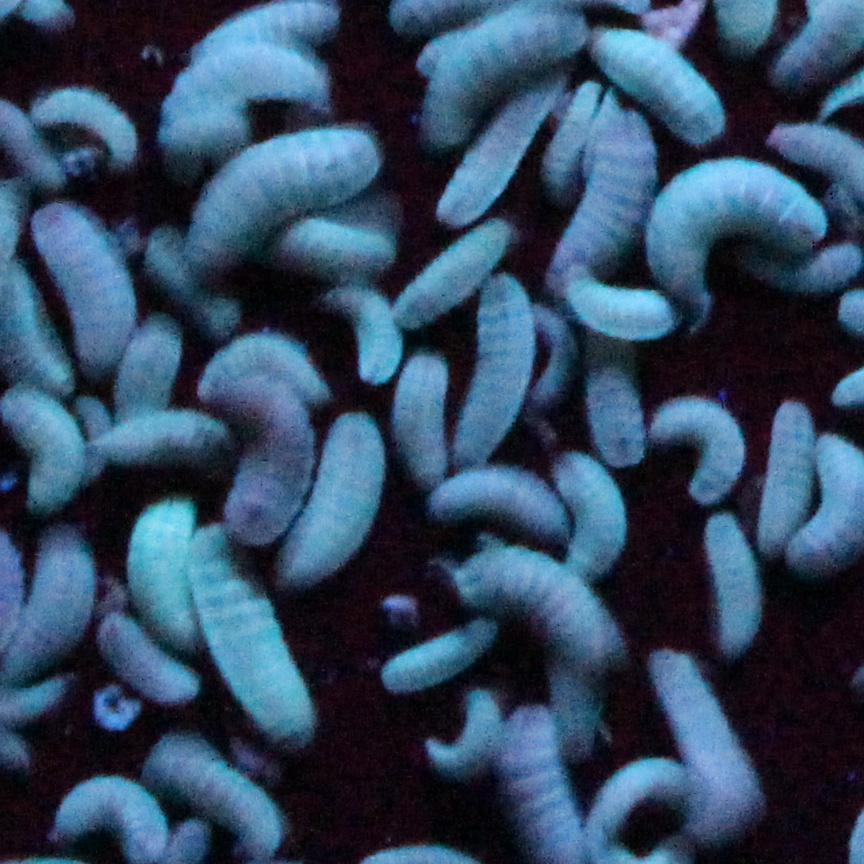larve: (182, 107, 392, 280), (179, 515, 325, 746), (633, 153, 826, 287), (446, 530, 633, 666), (22, 199, 144, 394), (418, 10, 585, 151), (638, 644, 759, 825), (277, 400, 385, 600), (138, 728, 291, 854), (579, 21, 740, 140), (438, 66, 551, 233), (1, 527, 92, 709), (635, 379, 753, 510), (387, 216, 518, 328), (571, 747, 690, 858), (749, 389, 823, 566), (561, 256, 687, 353), (92, 405, 246, 482), (321, 273, 411, 401), (92, 607, 207, 707), (379, 346, 451, 490), (31, 77, 140, 172), (702, 512, 771, 662), (376, 613, 497, 697), (417, 682, 507, 792)
